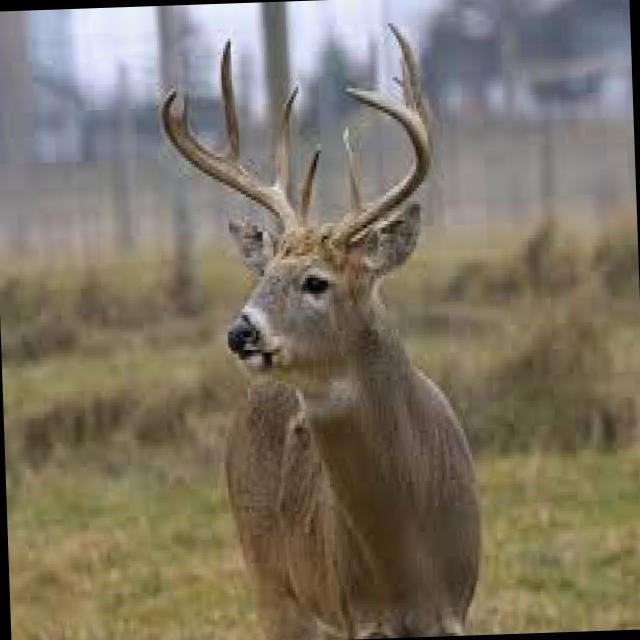E1: (180, 88, 190, 134)
L-F: (328, 85, 433, 251)
L-G1: (342, 125, 361, 213)
R-G1: (299, 143, 322, 222)
R-G2: (274, 85, 299, 199)
R-G3: (220, 37, 239, 165)
